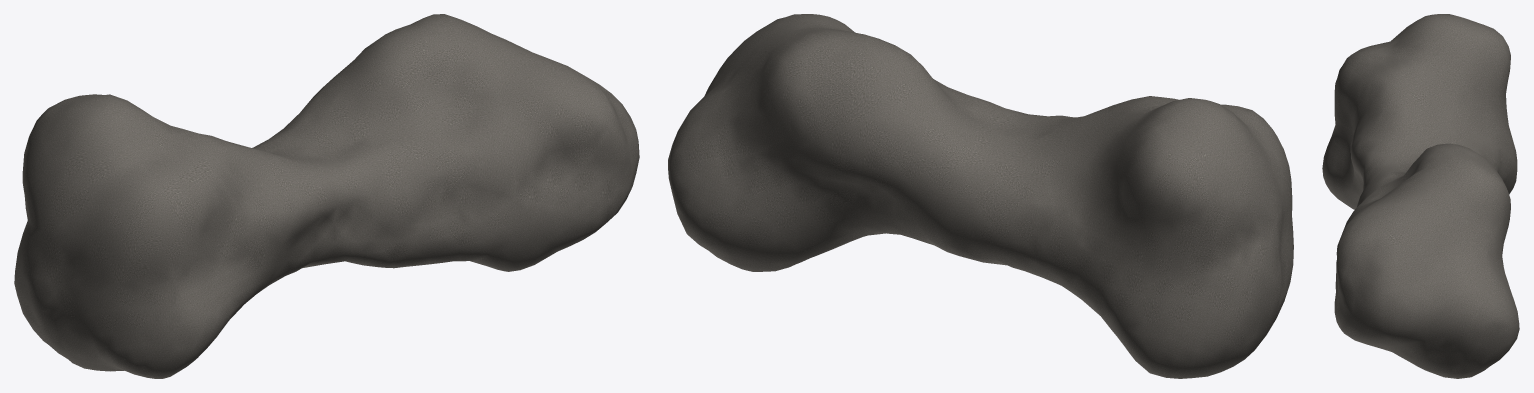
The model's file is kleopatra.glb.
3 views of the same model, side by side, from view 1: azimuth 30°, elevation 25°; view 2: azimuth 150°, elevation 25°; view 3: azimuth 270°, elevation 25° (orthographic). The views are drawn at different scales.
Parts seen in each view (by area): view 1: Asteroid 216 Kleopatra; view 2: Asteroid 216 Kleopatra; view 3: Asteroid 216 Kleopatra.
Boxes of the visible parts, x1,y1,x2,y2 form: Asteroid 216 Kleopatra: (14,14,639,378); Asteroid 216 Kleopatra: (668,14,1293,378); Asteroid 216 Kleopatra: (1322,14,1519,378).
Bounding box in the file's own units: 217000 × 93623 × 81490.
Materials: 1 (1 with a texture image).
